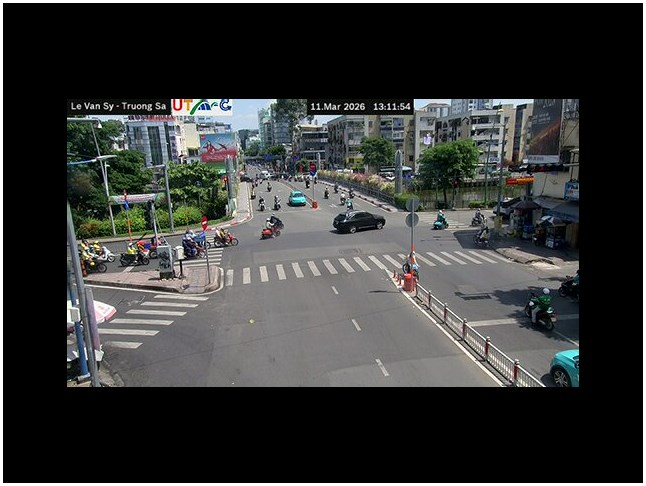car: (540, 347, 579, 387), (332, 210, 385, 233), (432, 212, 448, 230), (288, 192, 307, 206)
